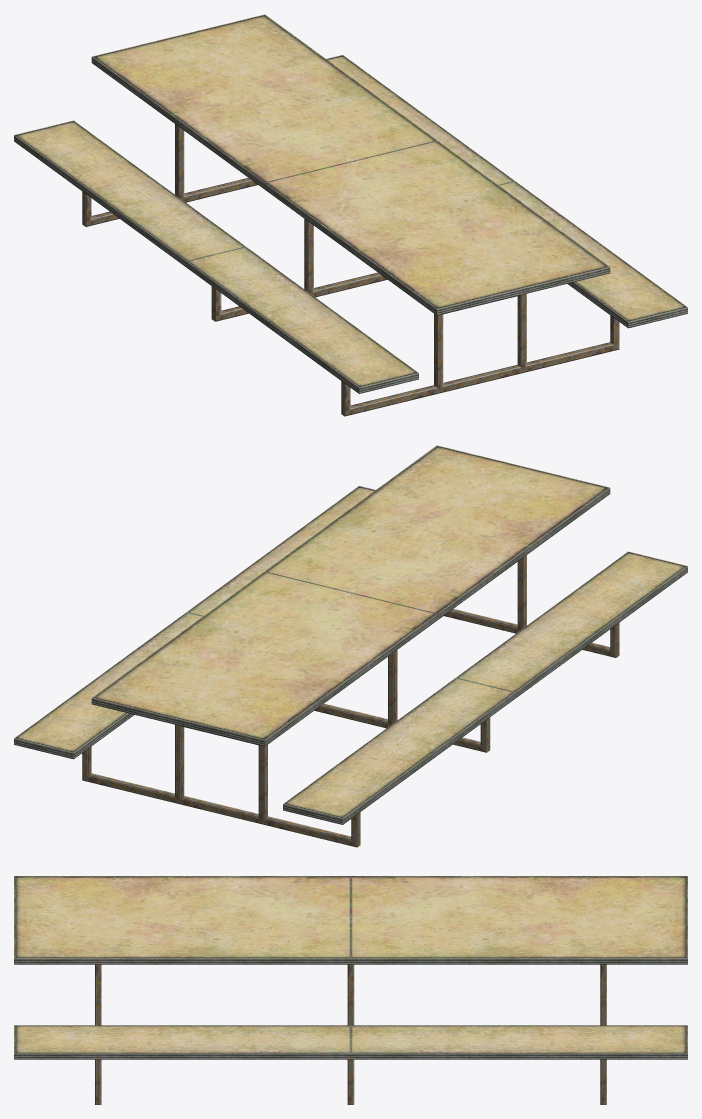
The model's file is cafeteria_table01.fbx.
3 views of the same model, one above another, from view 1: azimuth 30°, elevation 25°; view 2: azimuth 150°, elevation 25°; view 3: azimuth 270°, elevation 25° (orthographic). The views are drawn at different scales.
Parts seen in each view (by area): view 1: mesh_1; view 2: mesh_1; view 3: mesh_1.
Boxes of the visible parts, x1,y1,x2,y2 form: mesh_1: (14,14,687,416); mesh_1: (14,445,687,847); mesh_1: (14,876,687,1104).
Size of the model in its own units: 220 by 80 by 400.
